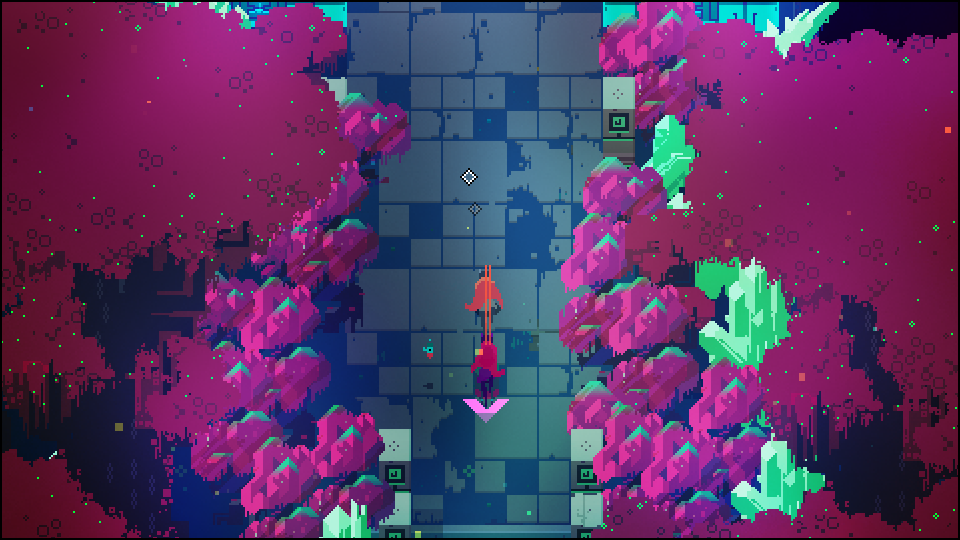player: (465, 265, 507, 322)
